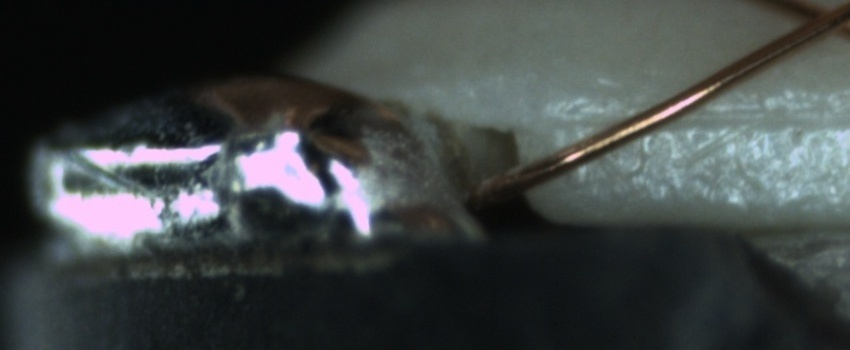CL: (780, 0, 850, 44)
DL: (564, 84, 850, 148)
